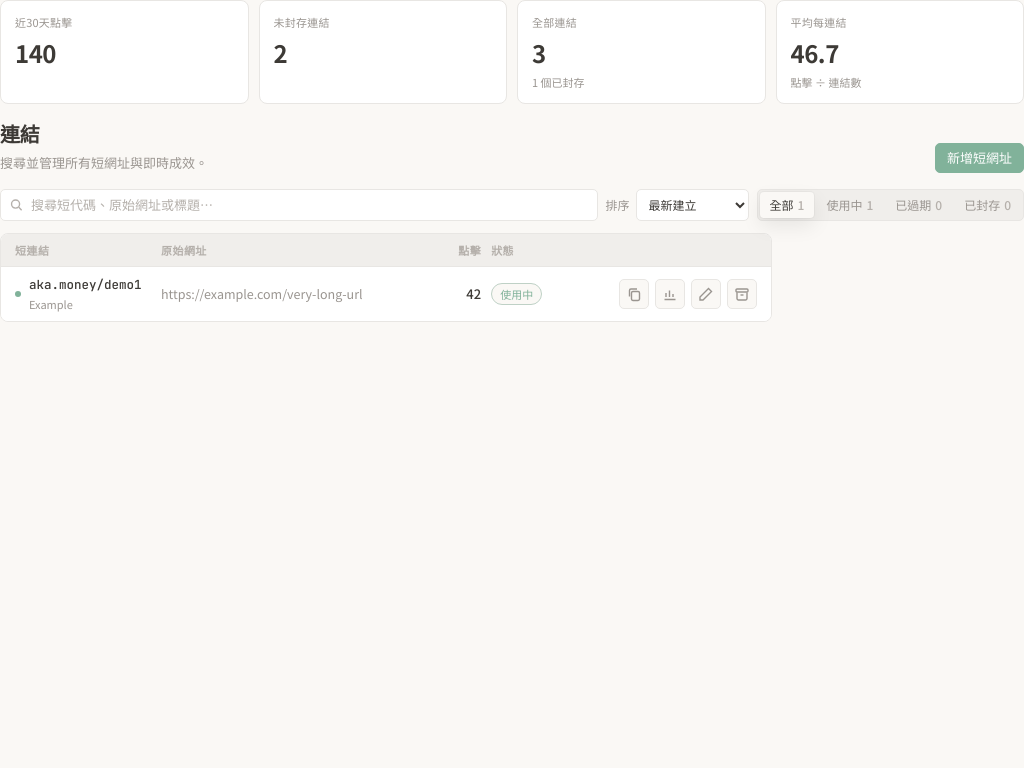
Test: DashboardView › keeps creation hidden until the page-header action opens the modal
The width and height of the screenshot is (1024, 768).
Step 1. Click the button with test id "open-create" → (980, 158), box [935,142,1023,172]
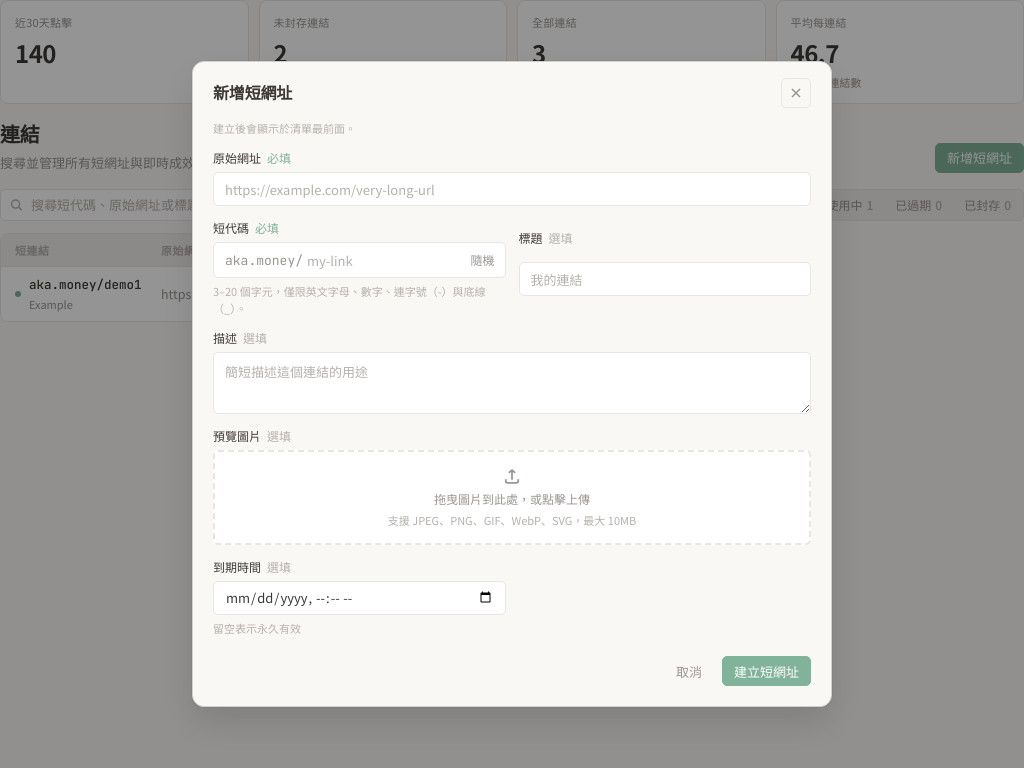
Expected: the dialog shows "新增短網址", [213,83,292,103]
Expected: the field labelled "原始網址 必填" is shown, [213,172,811,206]
